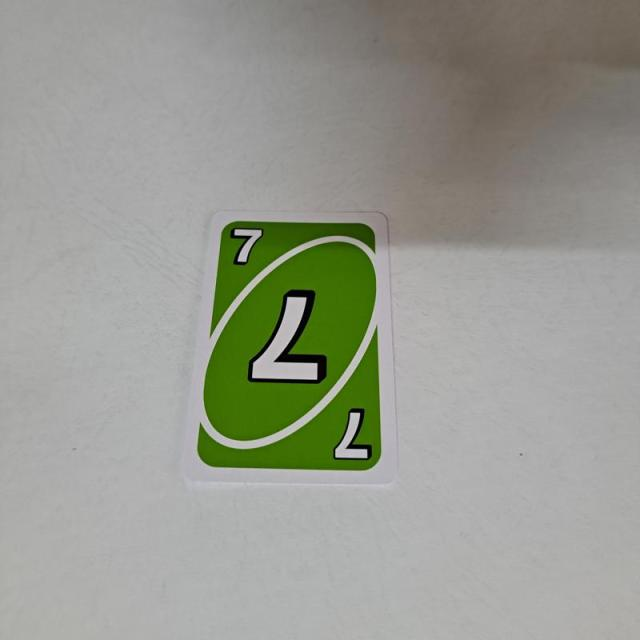Green_Card: (192, 212, 387, 476)
Number_7: (223, 222, 266, 268)
